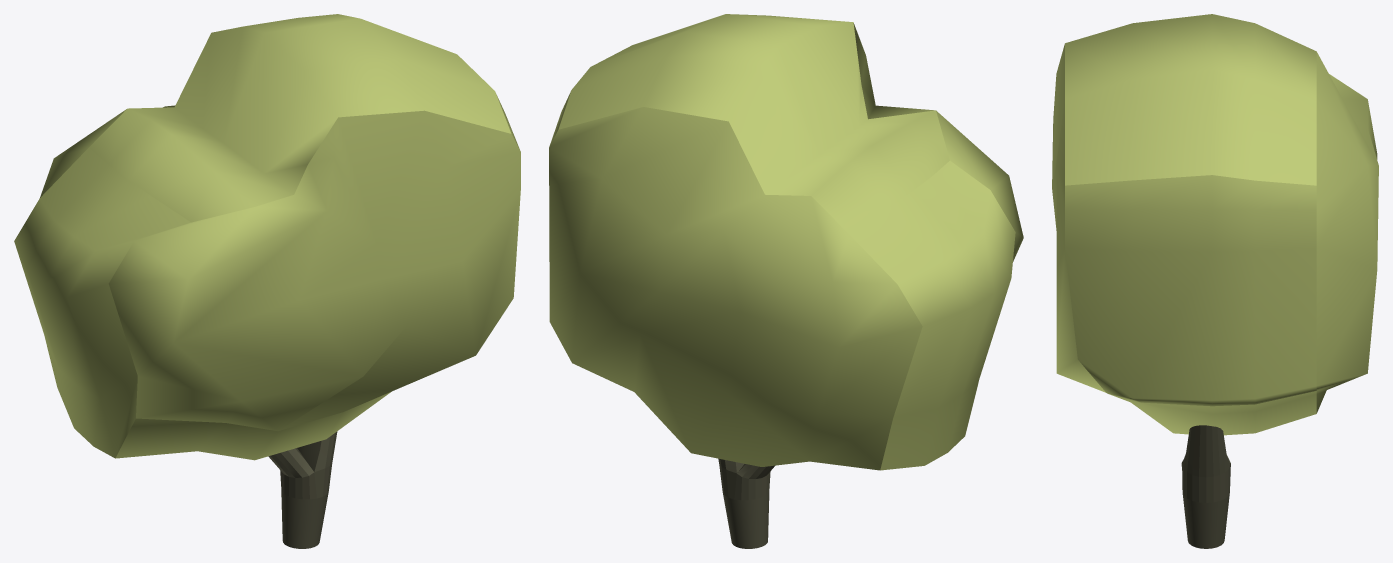
File: Tree2.fbx
The picture shows the model from 3 angles, left to right: view 1: azimuth 30°, elevation 25°; view 2: azimuth 150°, elevation 25°; view 3: azimuth 270°, elevation 25°; orthographic projection.
Visible parts, largest first — view 1: pCube5, pCylinder4; view 2: pCube5, pCylinder4; view 3: pCube5, pCylinder4.
Part boxes in pixels (x1,y1,x2,y2): pCube5: [14, 14, 520, 460]; pCylinder4: [268, 431, 337, 548]; pCube5: [549, 14, 1023, 470]; pCylinder4: [718, 458, 774, 548]; pCube5: [1052, 14, 1378, 435]; pCylinder4: [1181, 425, 1230, 548].
Size of the model in its own units: 3.11 by 3.63 by 2.11.
